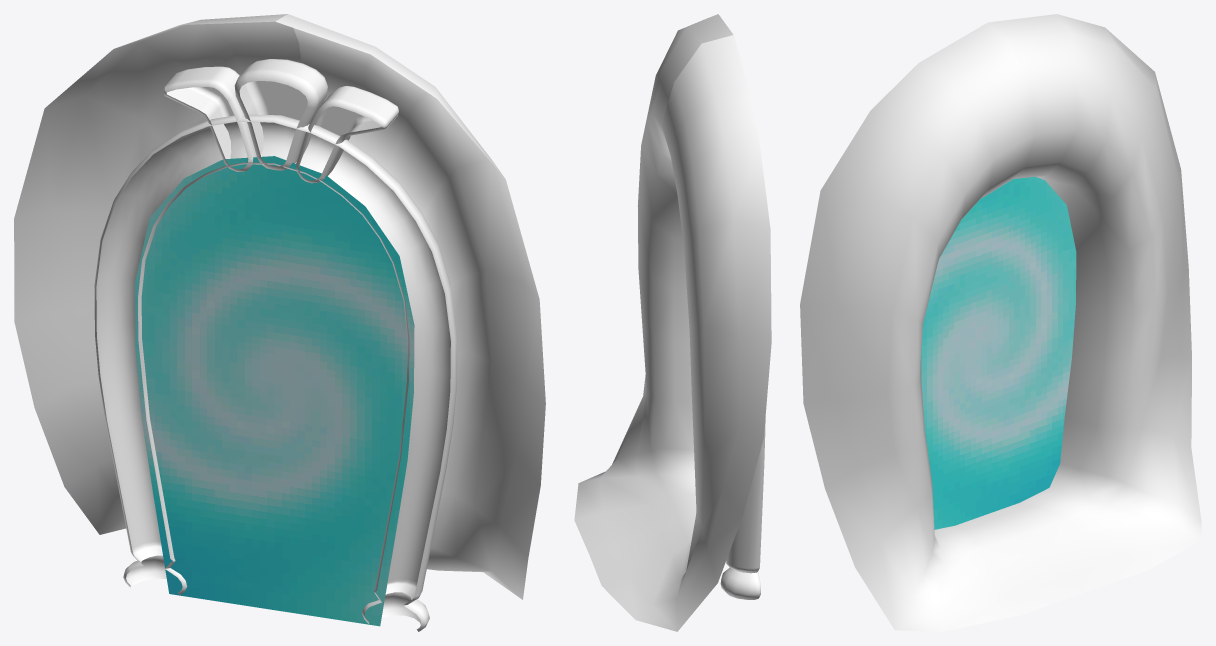
Rendered from Portal_Blue.fbx.
The picture shows the model from 3 angles, left to right: view 1: azimuth 30°, elevation 25°; view 2: azimuth 150°, elevation 25°; view 3: azimuth 270°, elevation 25°; orthographic projection. The views are drawn at different scales.
Visible parts, largest first — view 1: m_wizard_portal_02, ms_pfx_Teleport_1, m_wizard_portal_01; view 2: ms_pfx_Teleport_1, m_wizard_portal_01; view 3: ms_pfx_Teleport_1, m_wizard_portal_02.
Boxes of the visible parts, <box> form: m_wizard_portal_02: <box>135,156,414,626</box>; ms_pfx_Teleport_1: <box>14,14,545,599</box>; m_wizard_portal_01: <box>94,59,457,631</box>; ms_pfx_Teleport_1: <box>574,14,771,631</box>; m_wizard_portal_01: <box>720,418,765,599</box>; ms_pfx_Teleport_1: <box>800,14,1201,631</box>; m_wizard_portal_02: <box>921,177,1076,529</box>.
Size of the model in its own units: 1.4 by 2.2 by 1.53.
